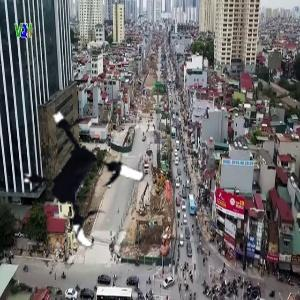drone: (16, 109, 159, 252)
